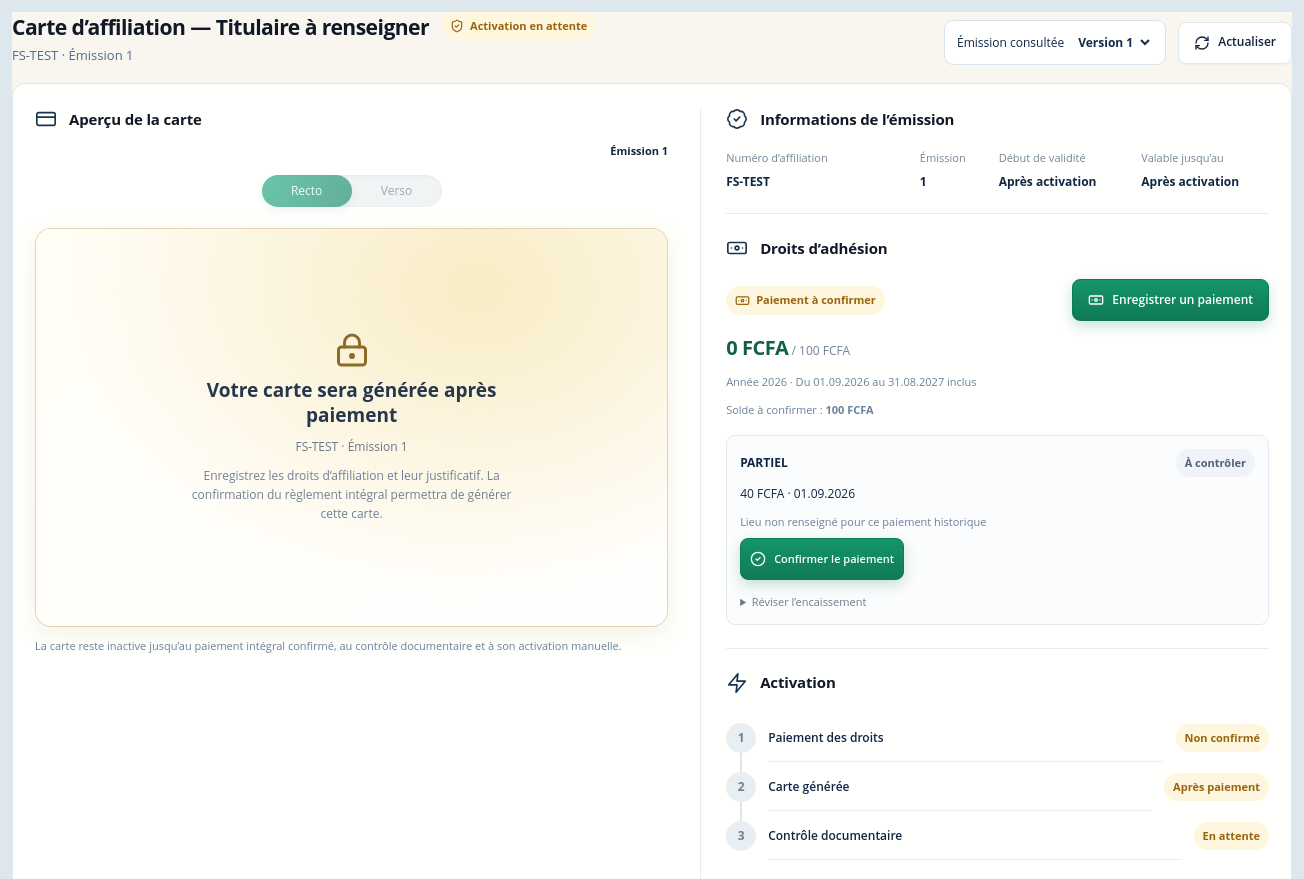
Scenario: Dossier d’affiliation et activation › ne génère pas lorsqu’un encaissement confirmé ne couvre qu’une partie des droits
The image size is (1304, 879).
Click the button "Confirmer le paiement". click: [822, 559]
box: [740,538,904,580]
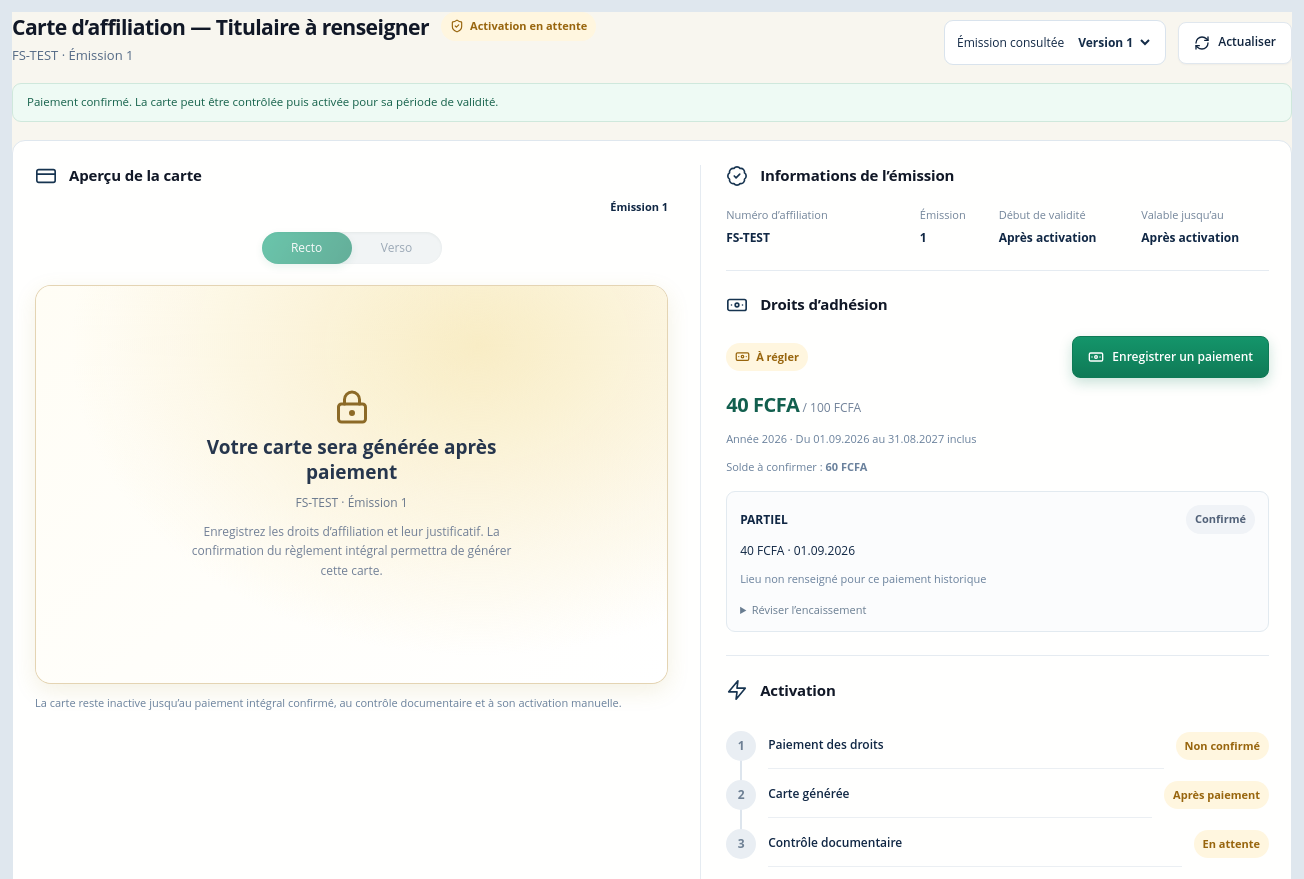
Check: the message is shown, box [12,83,1292,122]
Check: the text "60 FCFA" is shown, box [826,459,867,474]
